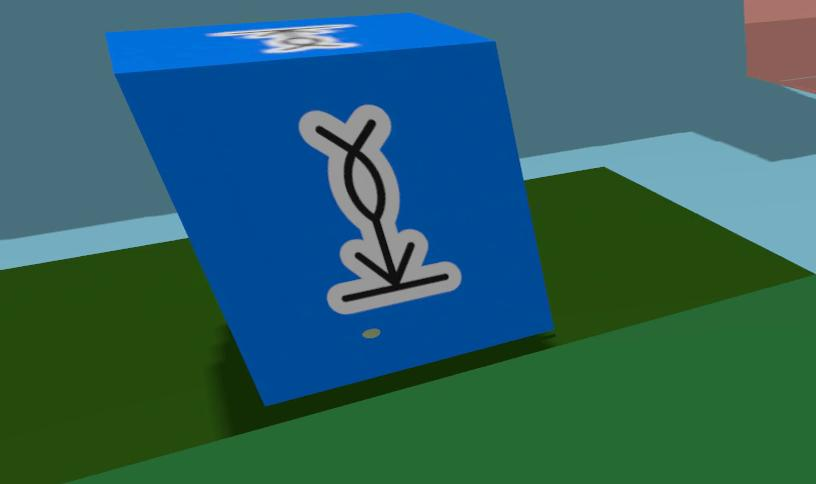KFS_REAL: (106, 13, 552, 403), (299, 105, 461, 314), (209, 24, 357, 53)
